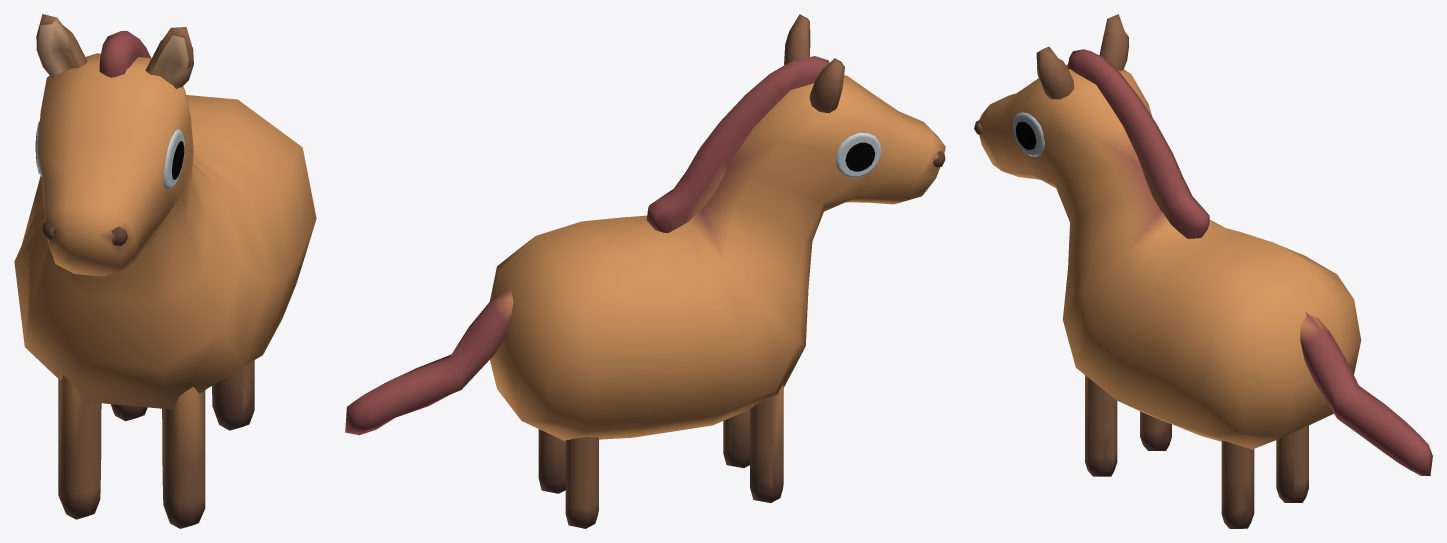
The model's file is Horse.glb.
3 views of the same model, side by side, from view 1: azimuth 30°, elevation 25°; view 2: azimuth 150°, elevation 25°; view 3: azimuth 270°, elevation 25° (orthographic). The views are drawn at different scales.
Visible parts, largest first — view 1: 72; view 2: 72; view 3: 72.
Part boxes in pixels (left/top/right/bottom): 72: left=14, top=14, right=316, bottom=528; 72: left=345, top=14, right=945, bottom=528; 72: left=974, top=14, right=1432, bottom=528.
Bounding box in the file's own units: 1.1 × 1.2 × 1.21.
